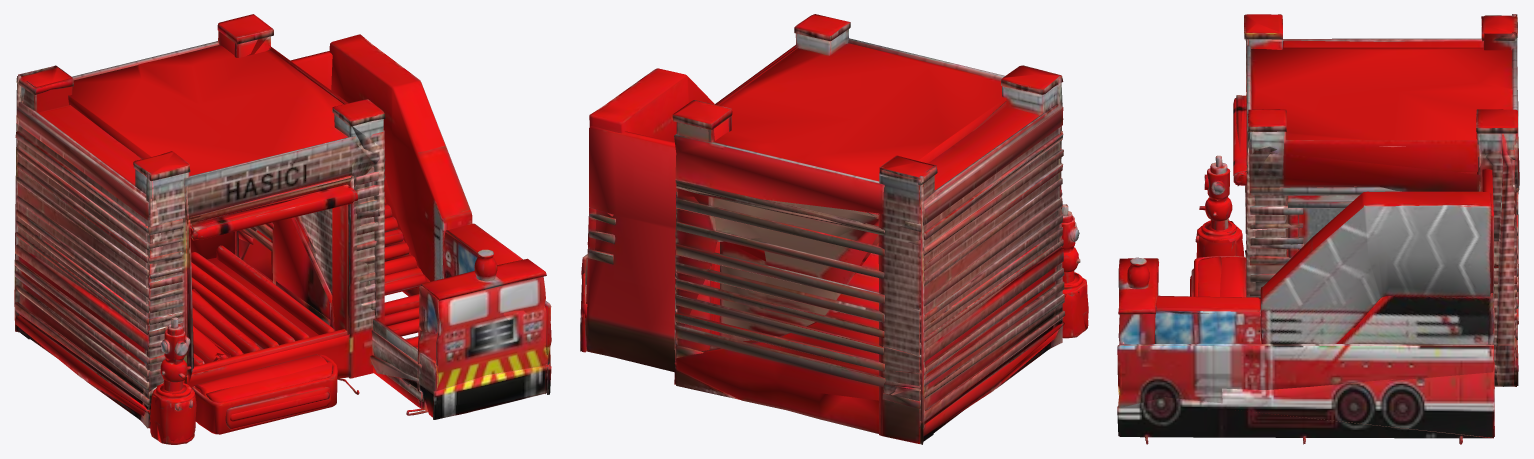
The picture shows the model from 3 angles, left to right: view 1: azimuth 30°, elevation 25°; view 2: azimuth 150°, elevation 25°; view 3: azimuth 270°, elevation 25°; orthographic projection. The views are drawn at different scales.
Size of the model in its own units: 1 by 0.7113 by 0.9791.
1 material, 1 textured.
